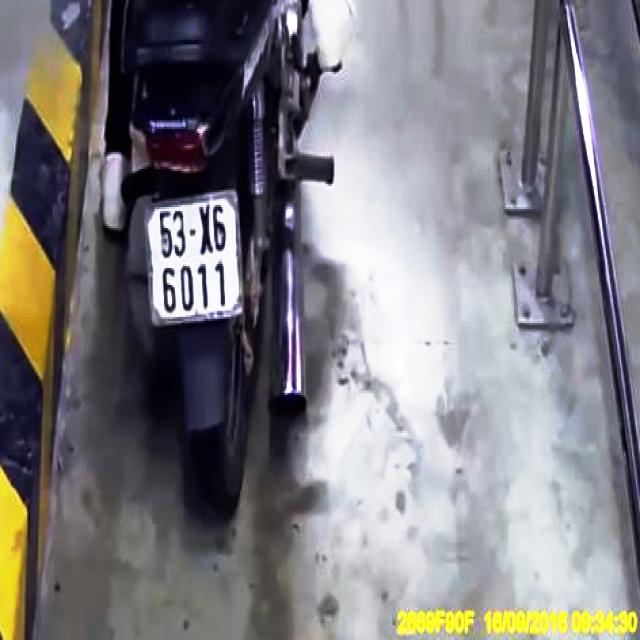license_plate: (146, 191, 243, 327)
